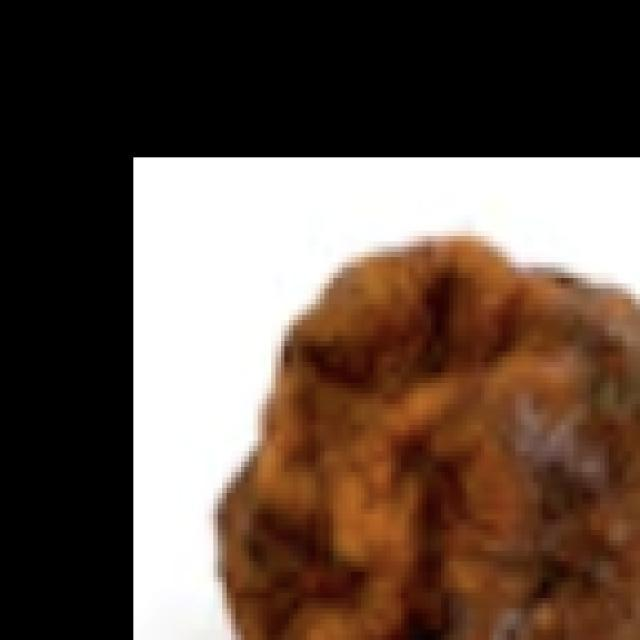sangat-busuk: (218, 236, 639, 639)
